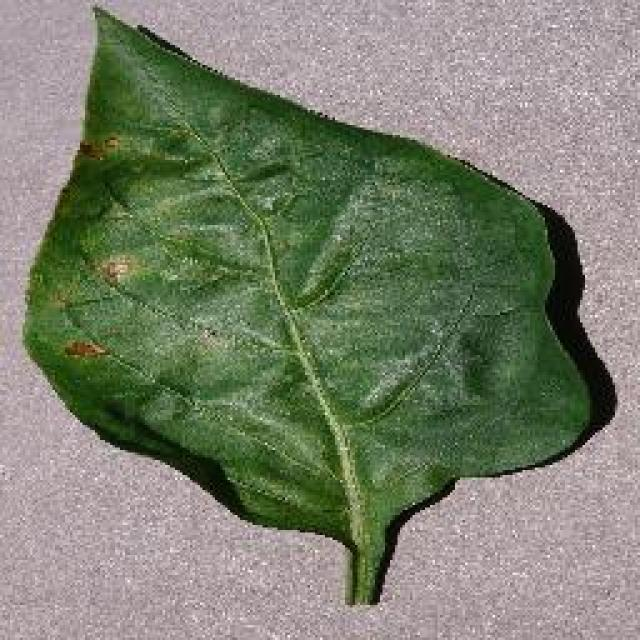Chilli_Bacterial_Spot: (18, 2, 608, 608), (55, 248, 137, 368), (72, 130, 122, 165), (58, 335, 110, 363), (95, 252, 133, 288)
